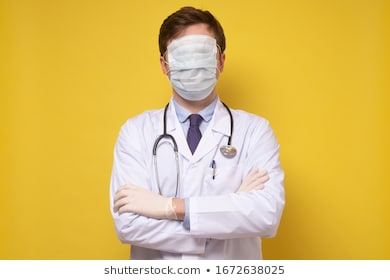mask_weared_incorrect: (158, 39, 227, 101)
